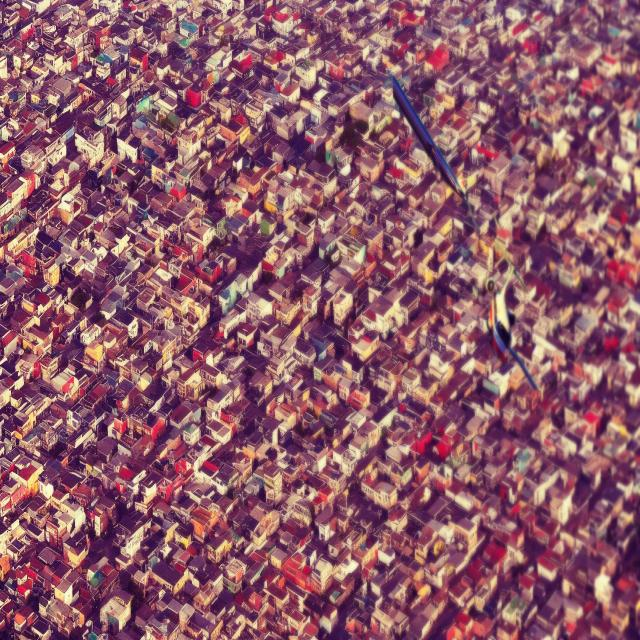airplane: (395, 75, 477, 227), (485, 238, 538, 390)
